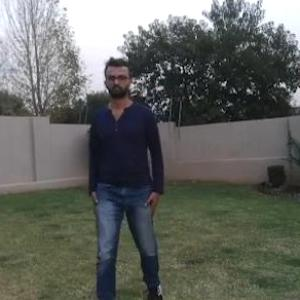follow: (88, 74, 150, 289)
